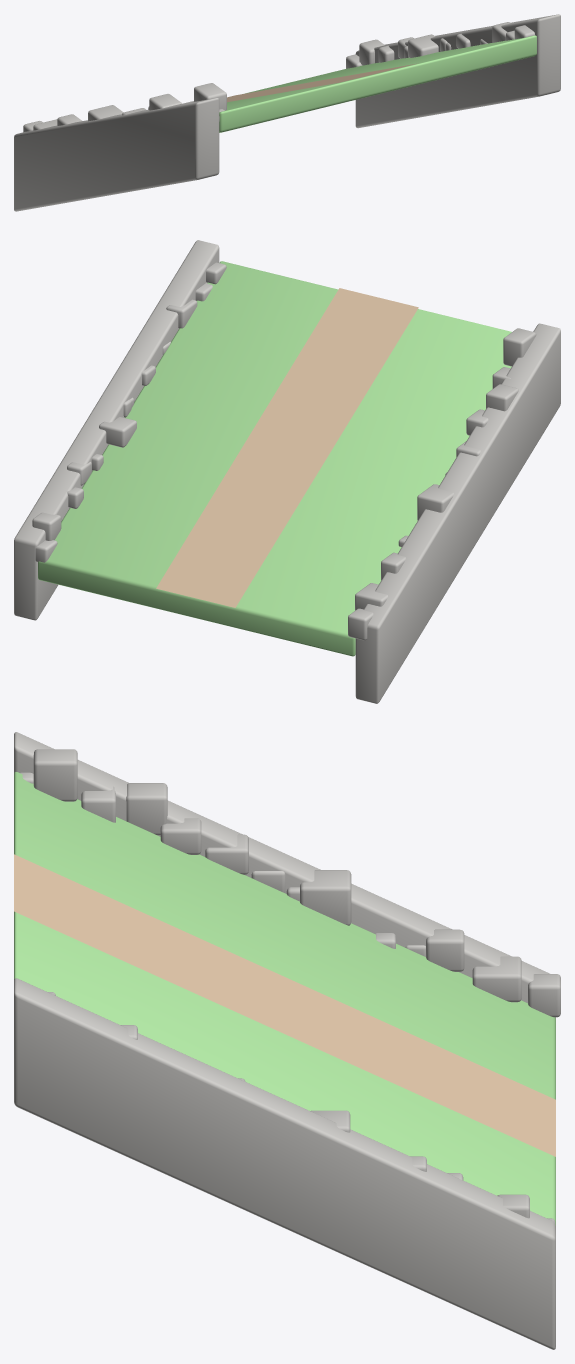
File: chunk_slope_steep.glb
3 renders of one model, top to bottom at view 1: azimuth 30°, elevation 25°; view 2: azimuth 150°, elevation 25°; view 3: azimuth 270°, elevation 25°, orthographic. The views are drawn at different scales.
Parts seen in each view (by area): view 1: Chunk_Steep_cliff.001, Chunk_Steep_cliff, Chunk_Steep_surface, Chunk_Steep_path, Chunk_Steep_rock_r5, Chunk_Steep_rock_l12, Chunk_Steep_rock_r1, Chunk_Steep_rock_l10, Chunk_Steep_rock_l5; view 2: Chunk_Steep_surface, Chunk_Steep_path, Chunk_Steep_cliff.001, Chunk_Steep_cliff, Chunk_Steep_rock_l12, Chunk_Steep_rock_r5, Chunk_Steep_rock_l5, Chunk_Steep_rock_l10, Chunk_Steep_rock_l0, Chunk_Steep_rock_r1, Chunk_Steep_rock_l1; view 3: Chunk_Steep_surface, Chunk_Steep_cliff, Chunk_Steep_path, Chunk_Steep_cliff.001, Chunk_Steep_rock_l5, Chunk_Steep_rock_l12, Chunk_Steep_rock_l10, Chunk_Steep_rock_l1, Chunk_Steep_rock_l2, Chunk_Steep_rock_l0, Chunk_Steep_rock_l9, Chunk_Steep_rock_l8 (+1 smaller).
Part boxes in pixels (x1,y1,x2,y2): Chunk_Steep_cliff.001: [14, 97, 219, 211]; Chunk_Steep_cliff: [355, 14, 560, 128]; Chunk_Steep_surface: [219, 35, 536, 132]; Chunk_Steep_path: [227, 63, 416, 102]; Chunk_Steep_rock_r5: [408, 34, 438, 57]; Chunk_Steep_rock_l12: [194, 83, 226, 110]; Chunk_Steep_rock_r1: [359, 39, 384, 65]; Chunk_Steep_rock_l10: [149, 94, 181, 110]; Chunk_Steep_rock_l5: [88, 105, 123, 121]; Chunk_Steep_surface: [38, 261, 511, 656]; Chunk_Steep_path: [156, 288, 418, 607]; Chunk_Steep_cliff.001: [355, 323, 560, 703]; Chunk_Steep_cliff: [14, 240, 219, 620]; Chunk_Steep_rock_l12: [503, 328, 536, 366]; Chunk_Steep_rock_r5: [99, 417, 136, 447]; Chunk_Steep_rock_l5: [417, 484, 453, 520]; Chunk_Steep_rock_l10: [486, 384, 518, 411]; Chunk_Steep_rock_l0: [348, 608, 373, 640]; Chunk_Steep_rock_r1: [32, 512, 61, 540]; Chunk_Steep_rock_l1: [355, 583, 387, 610]; Chunk_Steep_surface: [14, 772, 555, 1225]; Chunk_Steep_cliff: [14, 978, 555, 1349]; Chunk_Steep_path: [14, 854, 555, 1156]; Chunk_Steep_cliff.001: [14, 732, 555, 1019]; Chunk_Steep_rock_l5: [300, 870, 351, 925]; Chunk_Steep_rock_l12: [33, 749, 77, 801]; Chunk_Steep_rock_l10: [126, 783, 167, 835]; Chunk_Steep_rock_l1: [472, 956, 521, 1002]; Chunk_Steep_rock_l2: [426, 929, 464, 971]; Chunk_Steep_rock_l0: [528, 974, 560, 1017]; Chunk_Steep_rock_l9: [160, 818, 201, 854]; Chunk_Steep_rock_l8: [205, 834, 248, 874].
Size of the model in its own units: 27.6 by 17.48 by 24.23.
